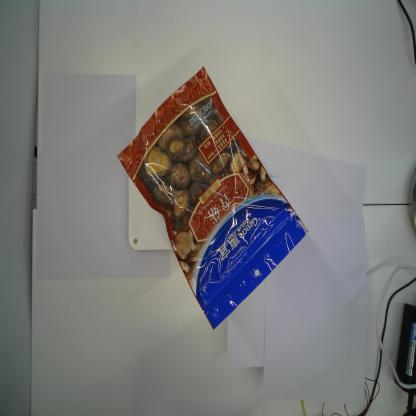Dried Food: (115, 66, 310, 330)
